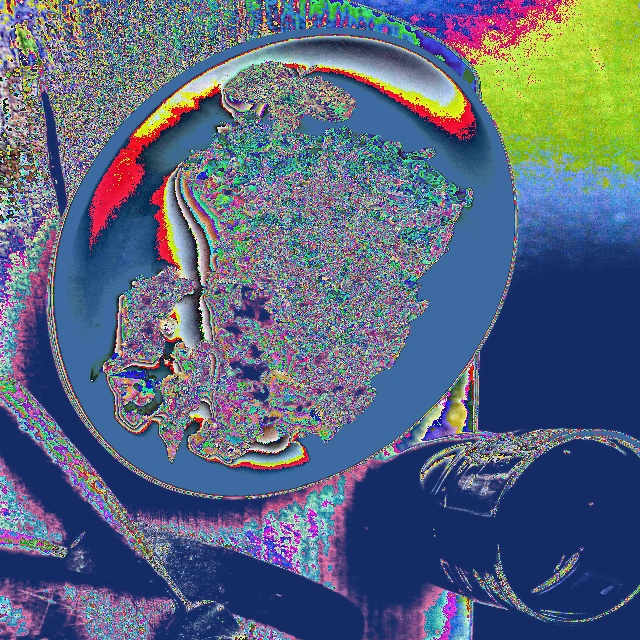background: (85, 62, 468, 462)
